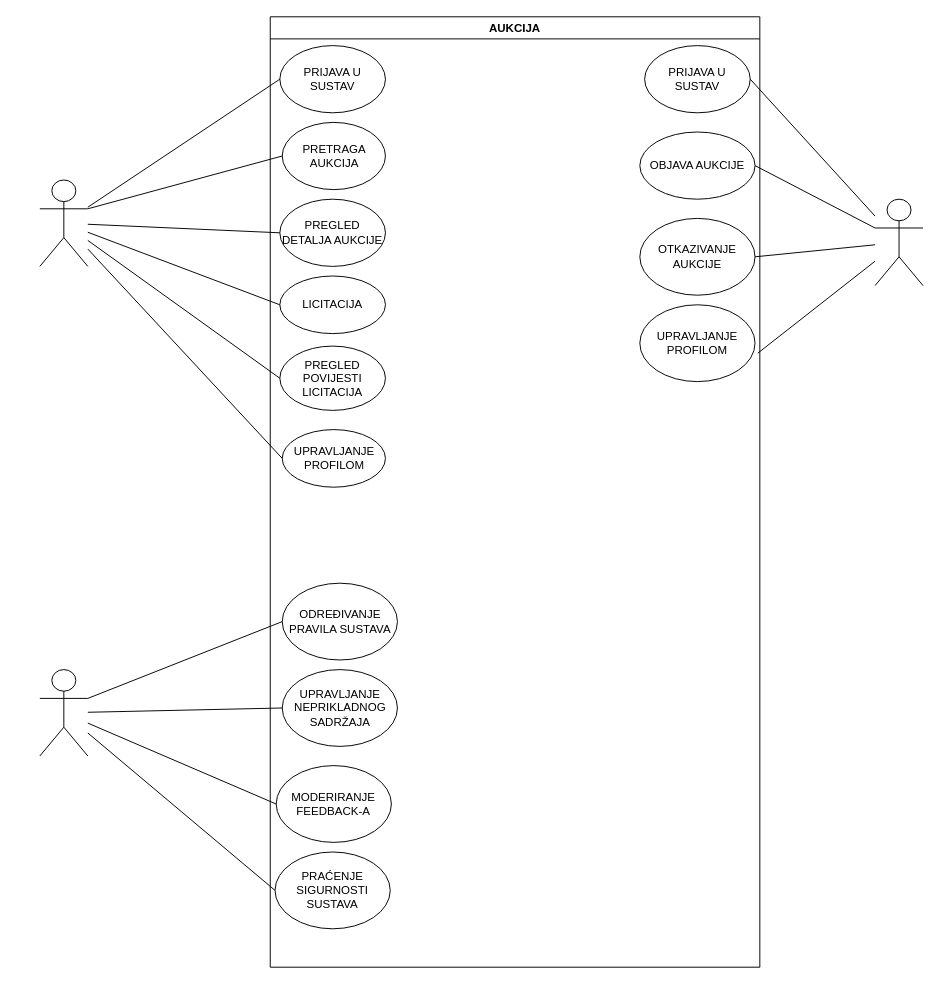
The diagram is 947 pixels wide and 984 high, and some of its shapes have lost their labels. Here are the shapes that lost their labels. From the top down, the box of each, then its label:
(39, 179, 88, 266): KUPAC
(874, 198, 923, 286): PRODAVAČ
(39, 669, 88, 756): ADMINISTRATOR
